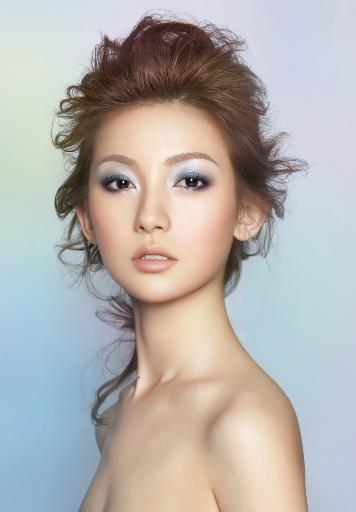left_eye: (174, 172, 215, 196)
left_lip_corner: (173, 255, 184, 269)
right_eye: (103, 175, 139, 196)
right_lip_corner: (130, 255, 139, 268)
